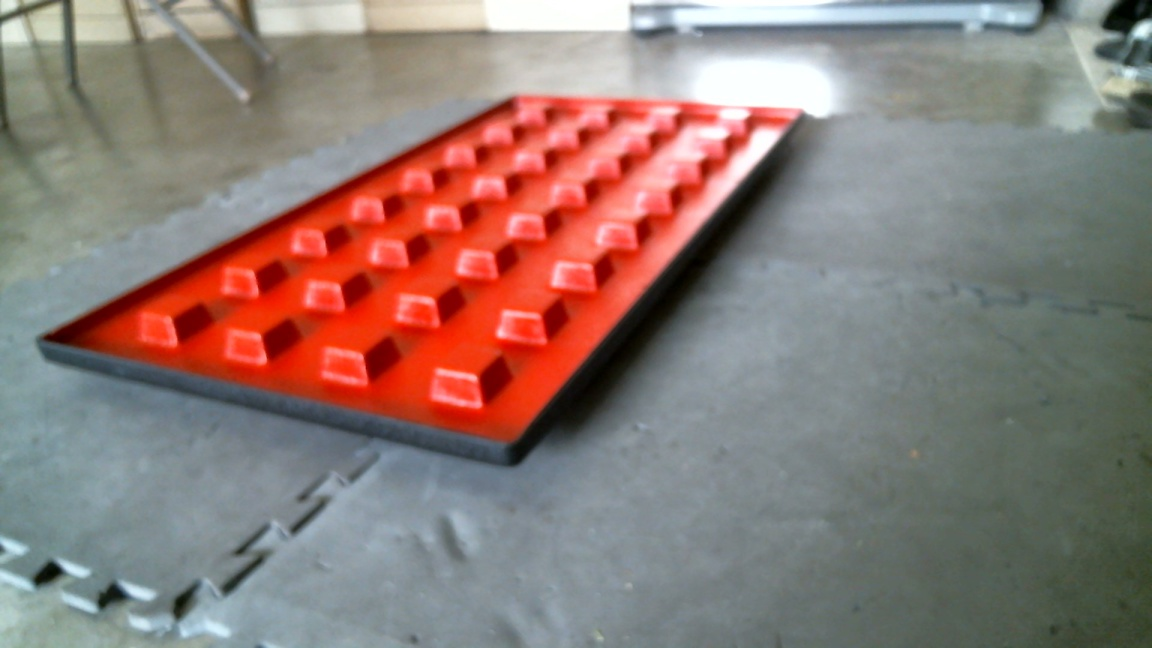red_foundation: (30, 92, 804, 472)
